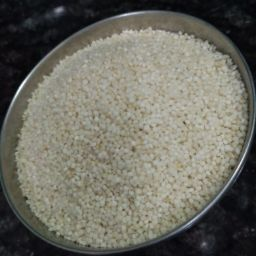Barnyard Millet(samak): (11, 25, 253, 236), (54, 38, 149, 253), (48, 44, 145, 253), (108, 23, 200, 233), (154, 27, 245, 223), (10, 70, 82, 250)
